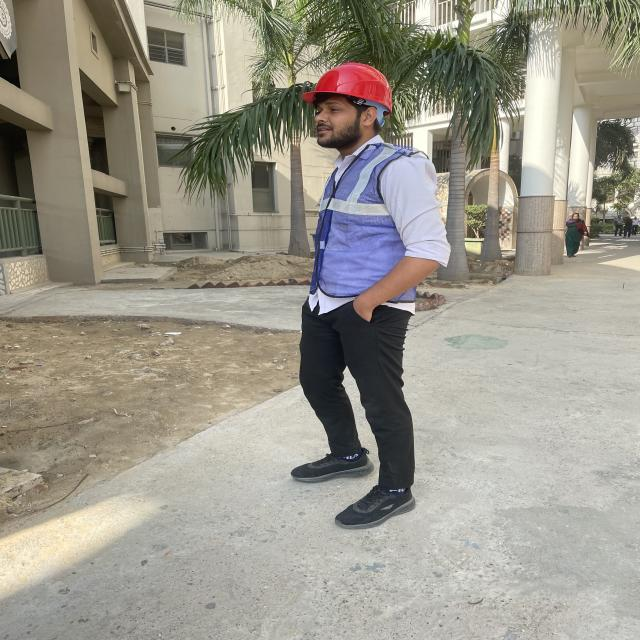safe: (291, 64, 455, 530)
